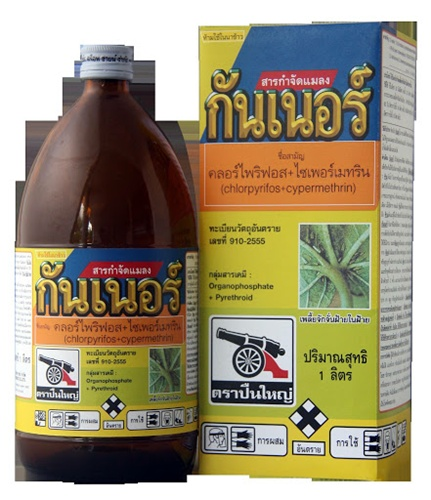Insecticide: (12, 40, 205, 491)
